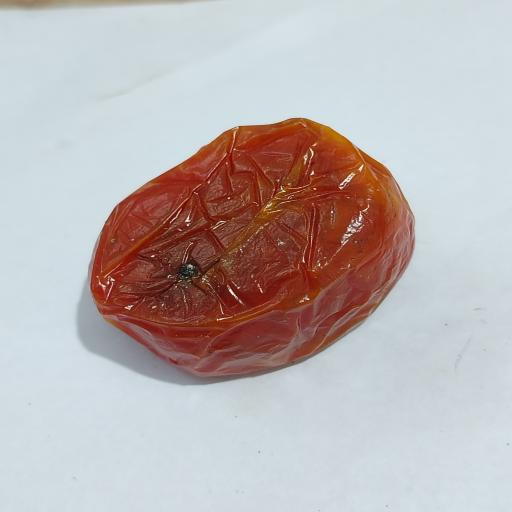spoiled: (90, 119, 414, 376)
